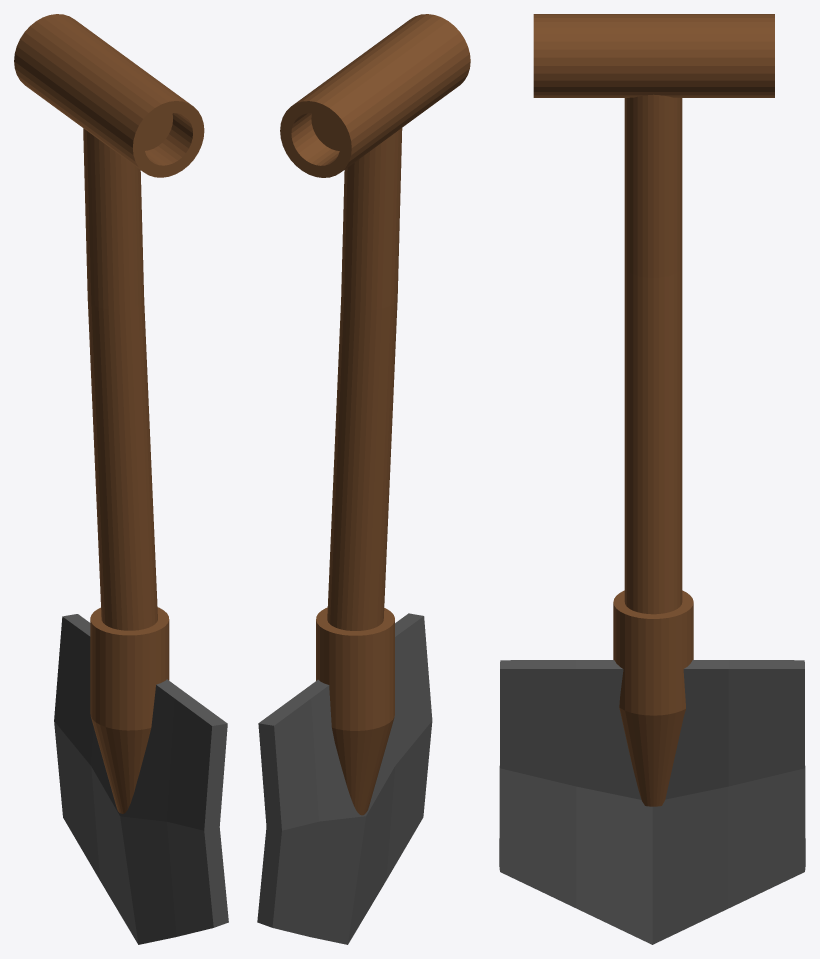
The model's file is shovel.fbx.
The picture shows the model from 3 angles, left to right: view 1: azimuth 30°, elevation 25°; view 2: azimuth 150°, elevation 25°; view 3: azimuth 270°, elevation 25°; orthographic projection.
Visible parts, largest first — view 1: Cylinder, Plane.001, Cylinder.001; view 2: Cylinder, Plane.001, Cylinder.001; view 3: Plane.001, Cylinder, Cylinder.001.
Boxes of the visible parts, <box> form: Cylinder: <box>83,128,169,813</box>; Plane.001: <box>54,614,228,944</box>; Cylinder.001: <box>14,14,204,177</box>; Cylinder: <box>316,128,402,815</box>; Plane.001: <box>257,613,432,944</box>; Cylinder.001: <box>280,14,470,177</box>; Plane.001: <box>499,660,805,944</box>; Cylinder: <box>613,94,693,806</box>; Cylinder.001: <box>533,14,774,97</box>.
Bounding box in the file's own units: 149 × 1408 × 431.
